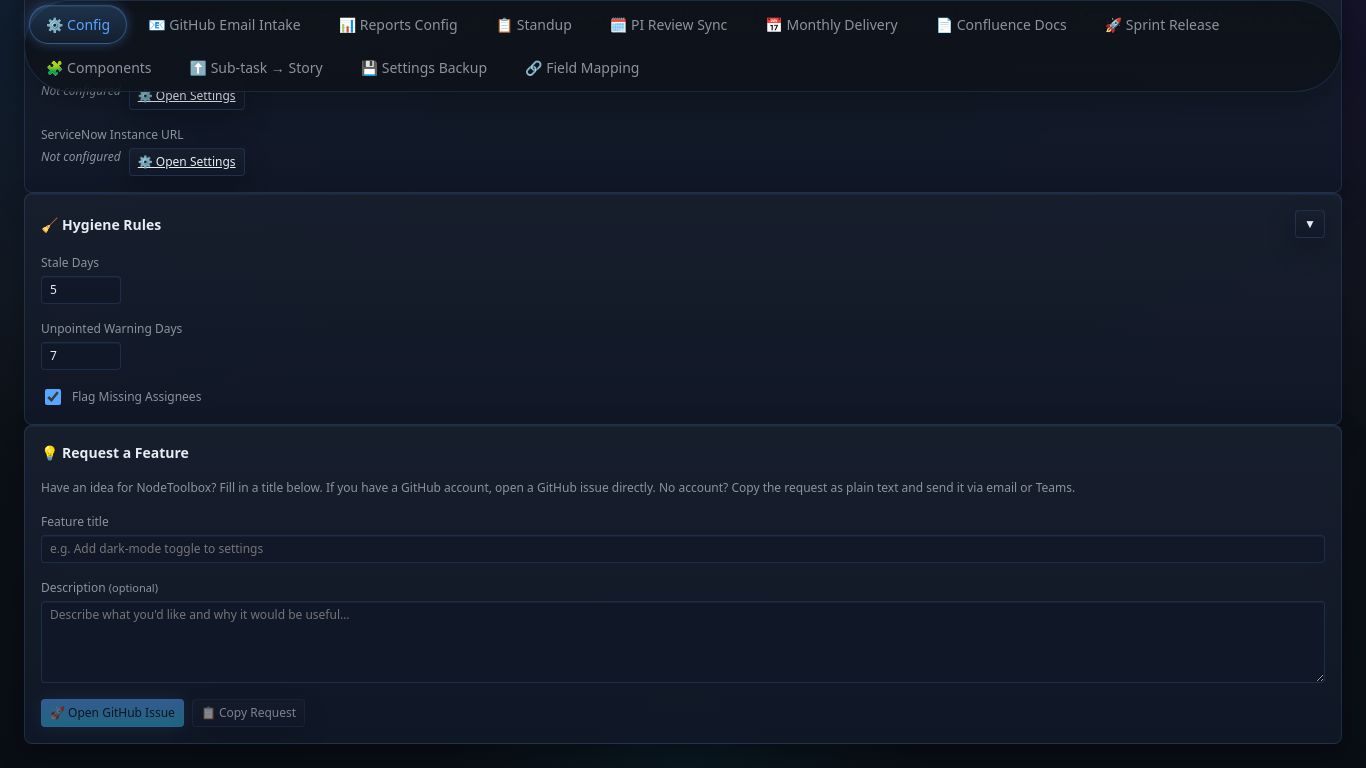
Test: Feature Request section › shows a "Copied!" confirmation message after Copy Request is clicked
(page scrolled)
In the field labelled "Feature title": coordinates (683, 549) [41, 535, 1325, 563], type "My feature"
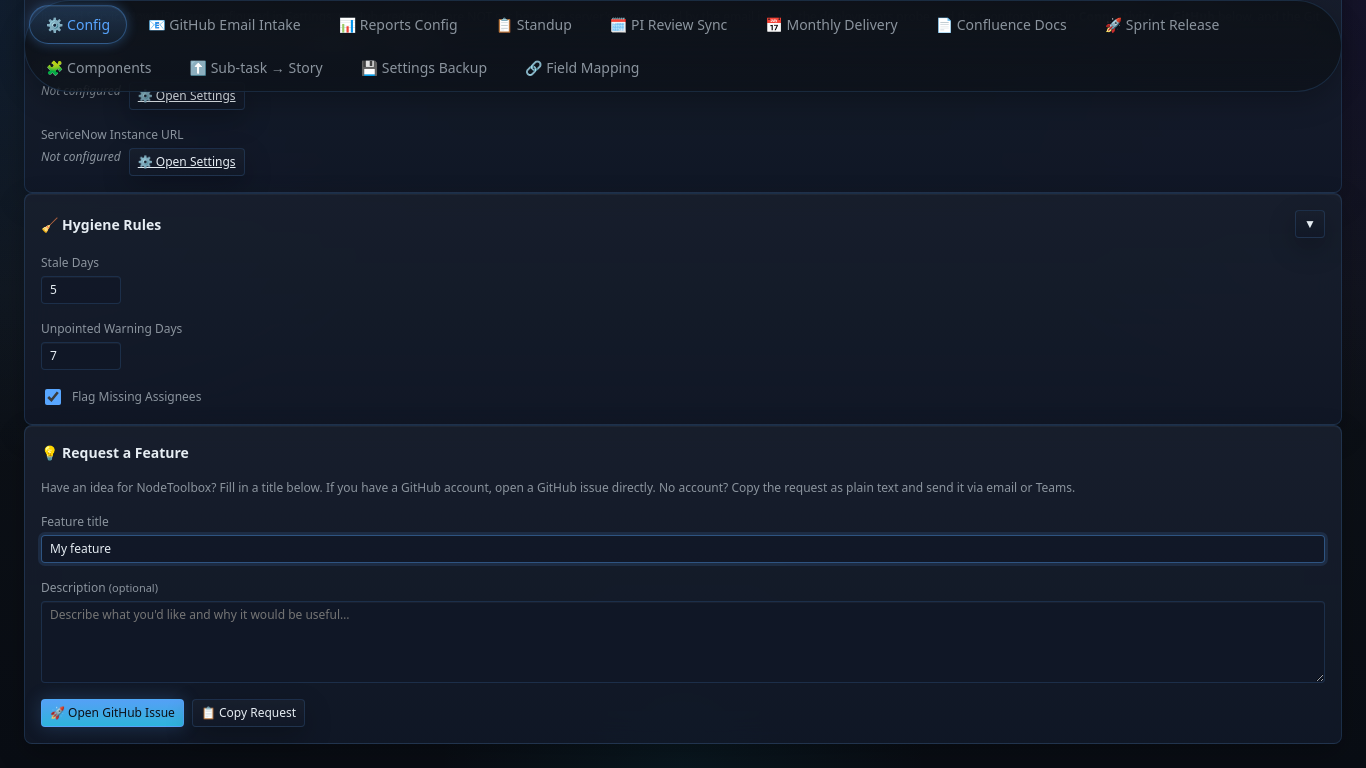
Click the button "📋 Copy Request": coordinates (248, 713) [192, 699, 305, 727]
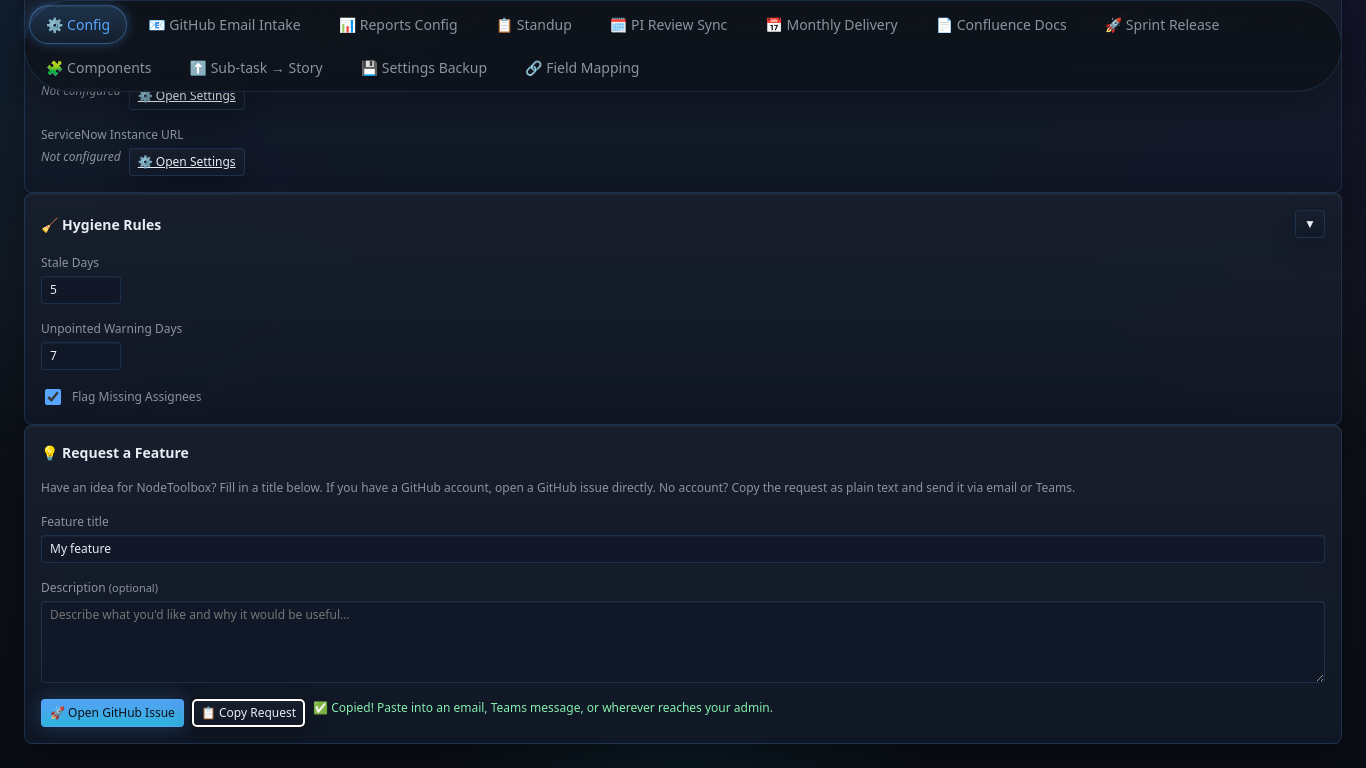
Check: the text "Copied!" is shown, box [313, 699, 773, 716]
